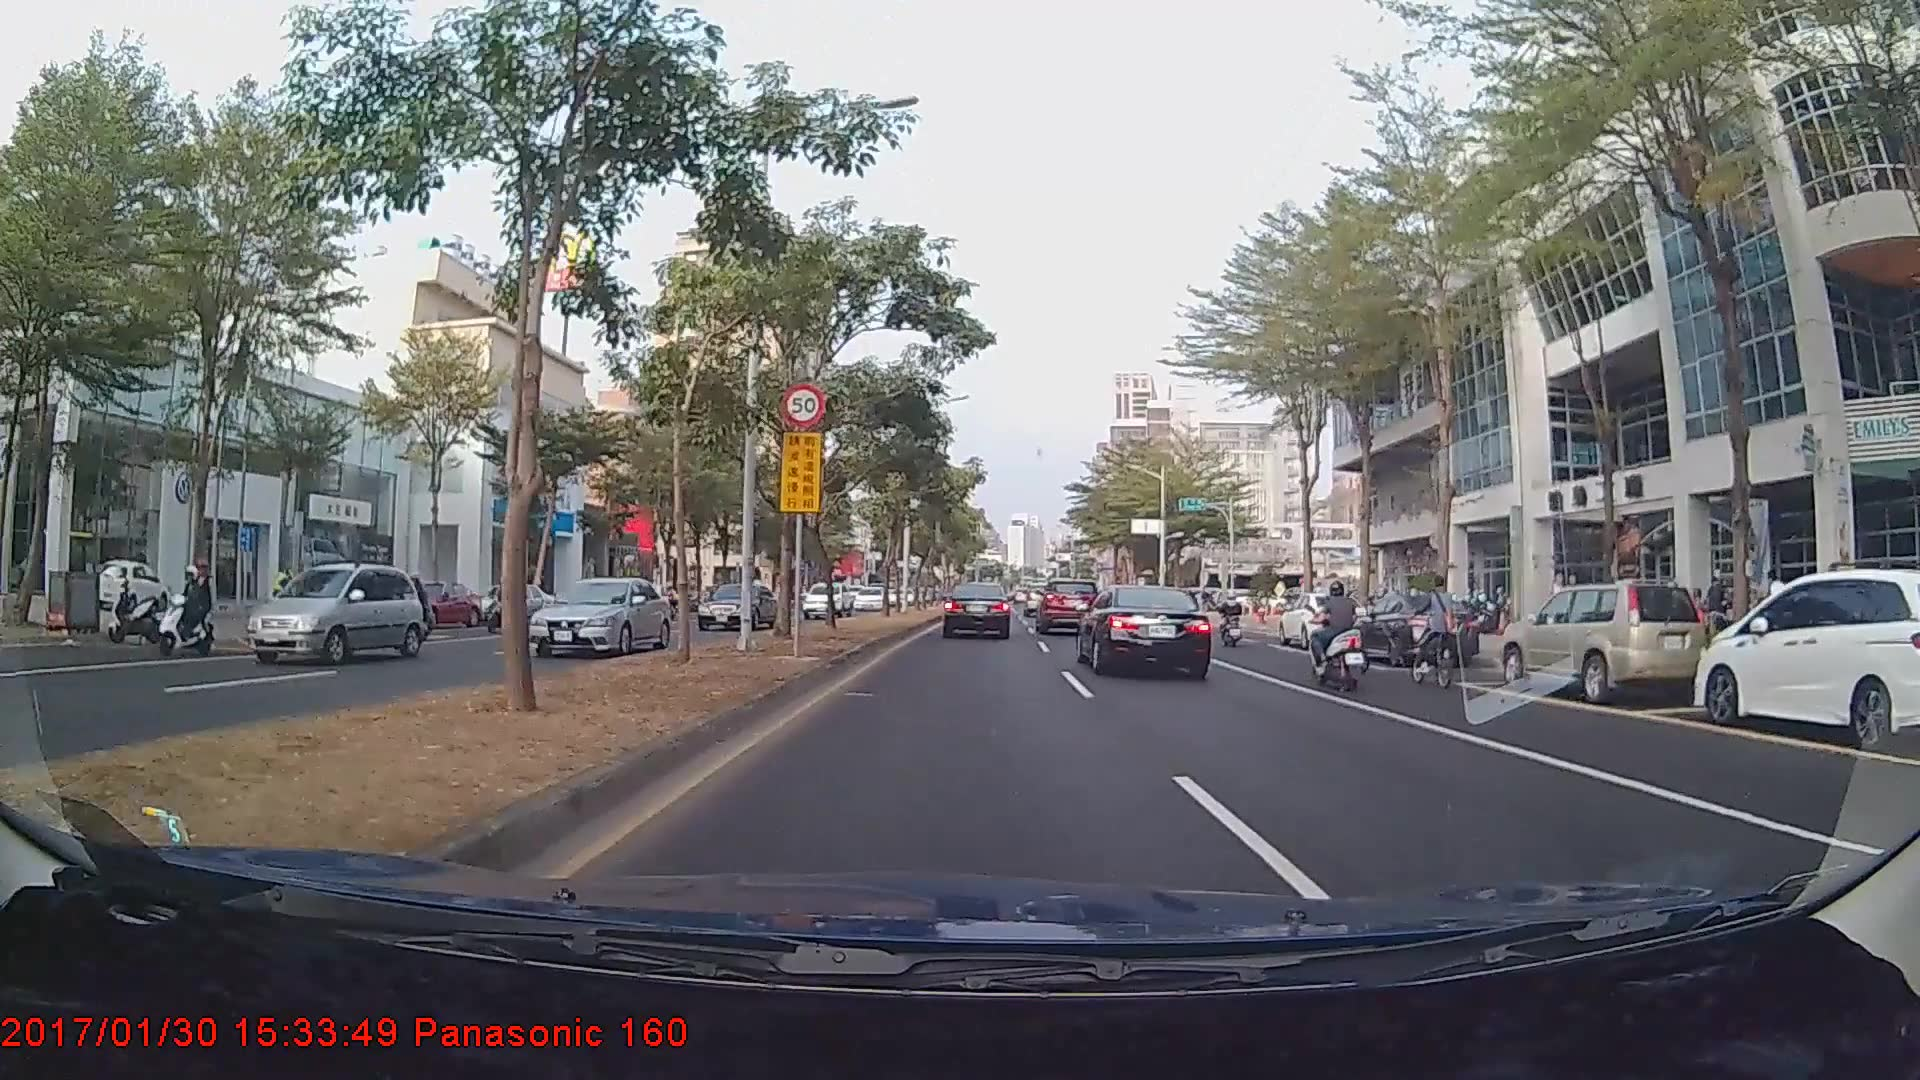rider: (1298, 580, 1376, 697), (151, 559, 221, 662), (1407, 576, 1468, 694), (1326, 587, 1379, 677), (1213, 594, 1249, 650)
vehicle: (1694, 570, 1920, 751), (1502, 581, 1708, 707), (240, 560, 423, 669), (1077, 581, 1213, 680), (530, 579, 671, 661), (1347, 594, 1479, 670), (1274, 590, 1367, 648), (941, 578, 1013, 640), (694, 581, 777, 632), (395, 579, 479, 628), (472, 584, 555, 623), (1039, 579, 1095, 633), (800, 580, 852, 621)
